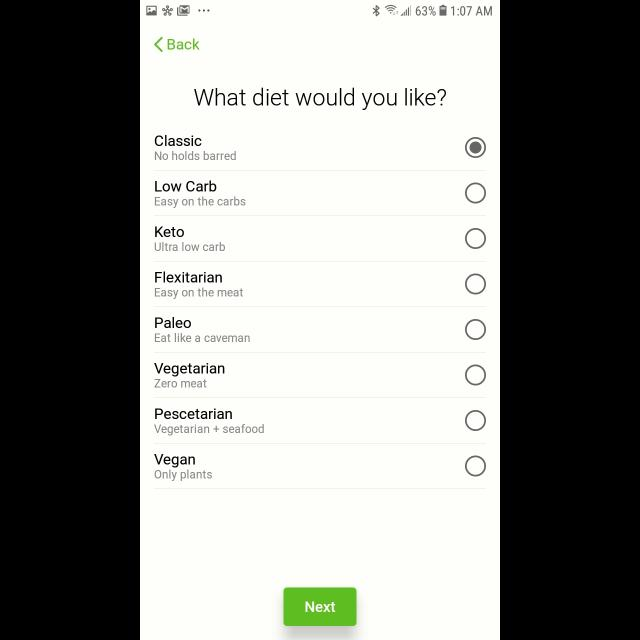checkbox: (465, 137, 485, 157), (465, 183, 485, 203), (465, 228, 485, 248), (465, 274, 485, 294), (465, 319, 485, 339), (465, 365, 485, 385), (465, 410, 485, 430), (465, 456, 485, 476)
icon: (154, 38, 164, 52)
text: (194, 88, 446, 110), (154, 424, 264, 436), (154, 196, 246, 208), (155, 288, 243, 300), (154, 363, 226, 377), (156, 333, 250, 343), (156, 408, 232, 419), (155, 180, 217, 192), (154, 242, 226, 252), (155, 470, 213, 482), (156, 272, 222, 282), (156, 152, 237, 160), (154, 454, 196, 468), (154, 136, 202, 146), (155, 379, 207, 388), (155, 317, 191, 328), (156, 226, 184, 238), (168, 40, 200, 50)
textbutton: (284, 588, 356, 626)
uppertaskbar: (140, 1, 500, 18)
